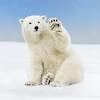PolarBear: (14, 11, 87, 90)
